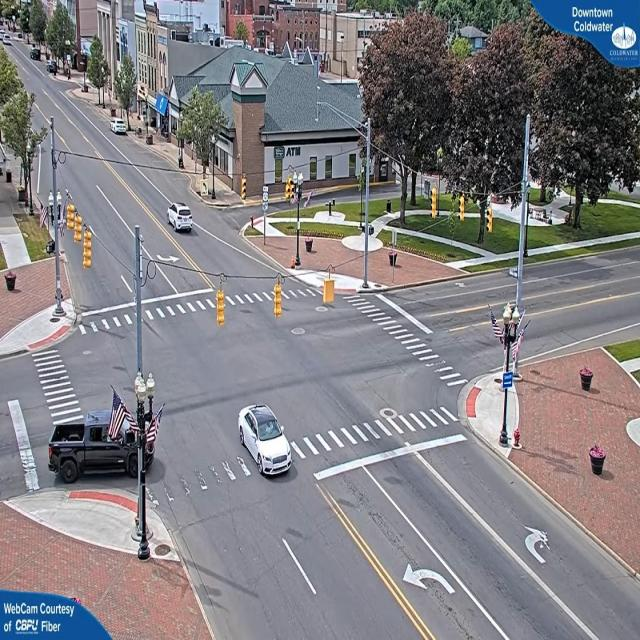car: (48, 399, 143, 484), (238, 404, 292, 476), (167, 204, 196, 234), (111, 120, 129, 136)
